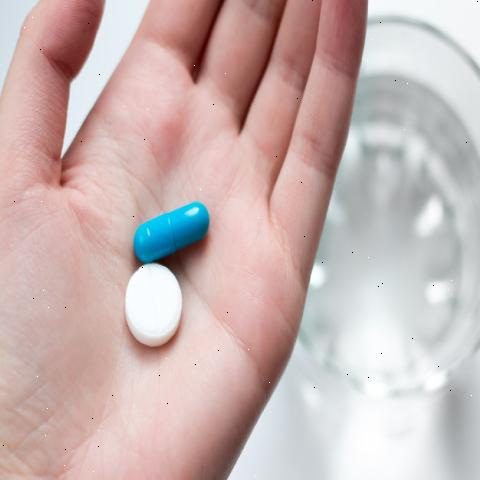Pill: (114, 264, 209, 349)
